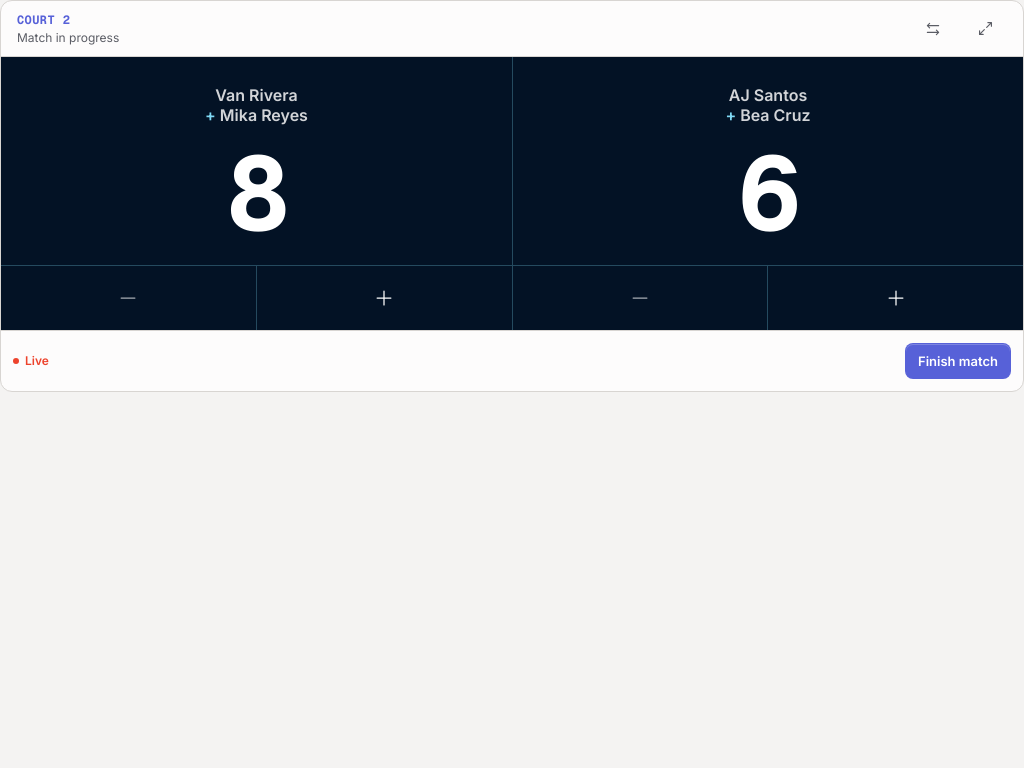
Test: LiveCourt › confirms the final teams and score before advancing the rotation
Click the button "Finish match" at (958, 361), box [905,343,1011,379]
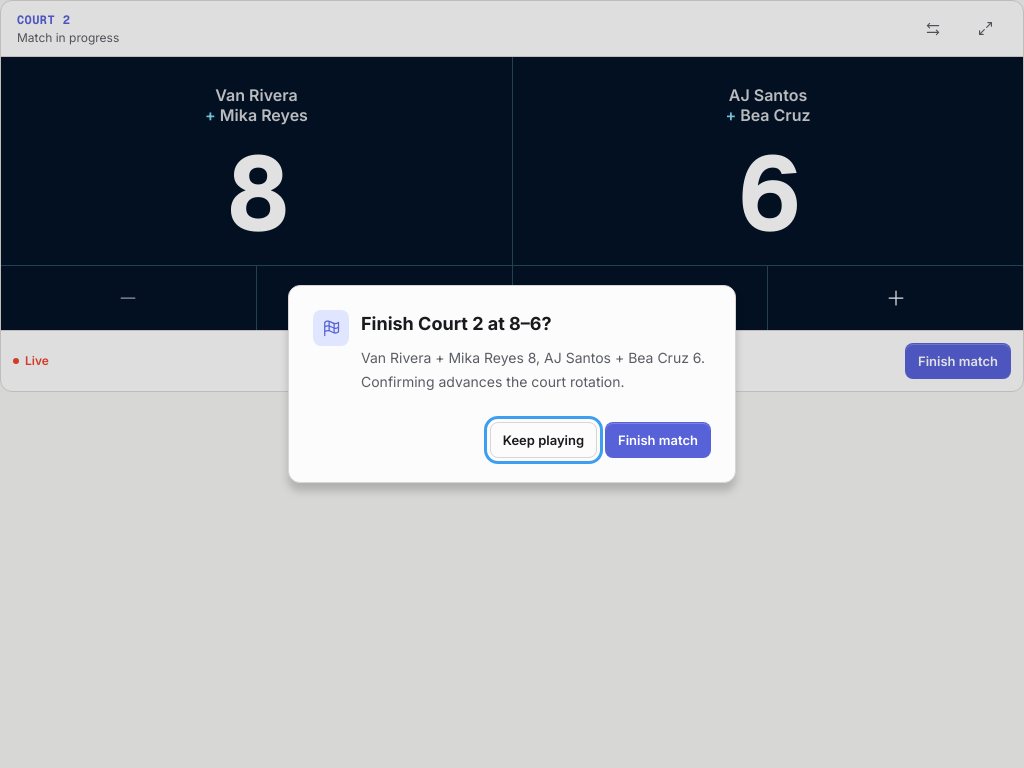
Now the text "Van Rivera" is shown, box [361,349,705,390]
